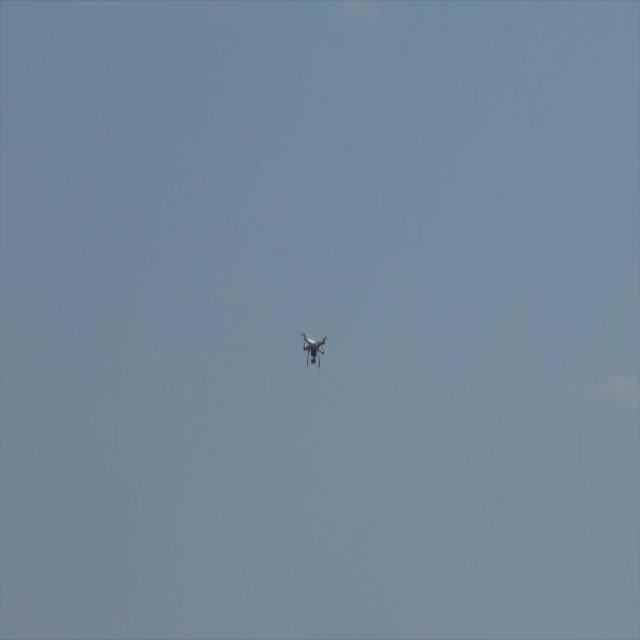UAV: (301, 333, 328, 370)
